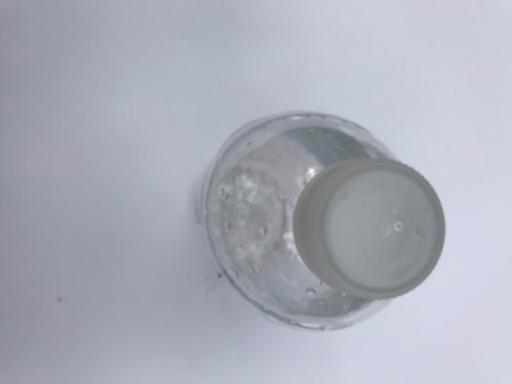PET: (202, 112, 447, 334)
plastic: (202, 112, 447, 334)
